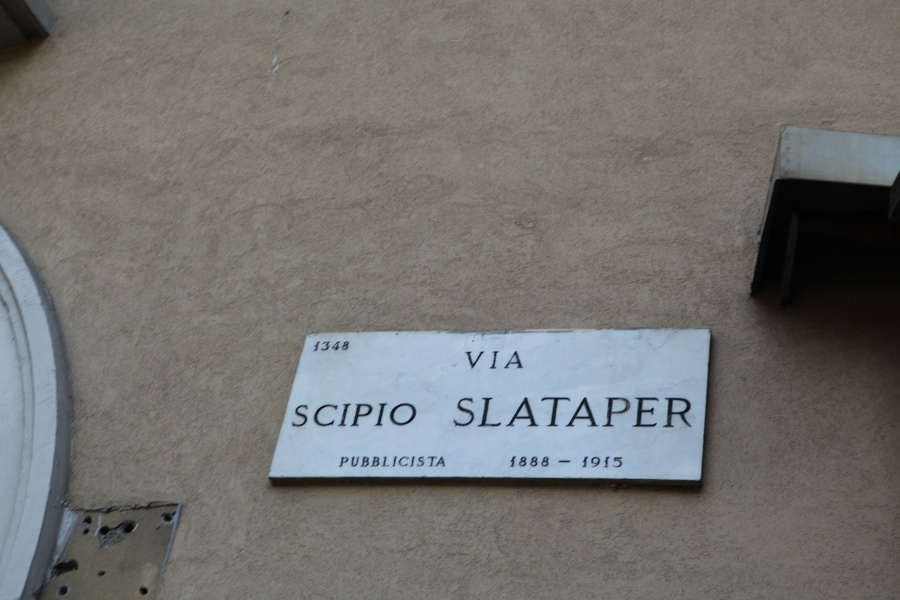text: (465, 398, 480, 428), (481, 398, 496, 428), (497, 398, 512, 428), (513, 398, 528, 428), (529, 398, 544, 428), (545, 398, 560, 428), (561, 398, 576, 428), (577, 398, 592, 428), (593, 398, 608, 428), (609, 398, 624, 428), (625, 398, 640, 428), (641, 398, 656, 428), (657, 398, 672, 428), (673, 398, 688, 428), (305, 403, 320, 428), (321, 403, 336, 428), (337, 403, 352, 428), (353, 403, 368, 428), (369, 403, 384, 428), (385, 403, 400, 428), (401, 403, 416, 428), (465, 351, 480, 370), (481, 351, 496, 370), (497, 351, 512, 370), (456, 398, 464, 428), (513, 351, 525, 370), (296, 403, 304, 428), (513, 456, 528, 469), (529, 456, 544, 469), (593, 457, 608, 469), (609, 457, 623, 469), (321, 341, 336, 352), (353, 457, 368, 468), (369, 457, 384, 468), (385, 457, 400, 468), (401, 457, 416, 468), (417, 457, 432, 468), (433, 457, 447, 468), (337, 341, 350, 352), (341, 457, 352, 468), (689, 398, 693, 428), (584, 457, 592, 469), (545, 456, 550, 469), (315, 341, 320, 352), (417, 403, 419, 428), (561, 461, 571, 465), (511, 456, 512, 469), (558, 461, 560, 465)
